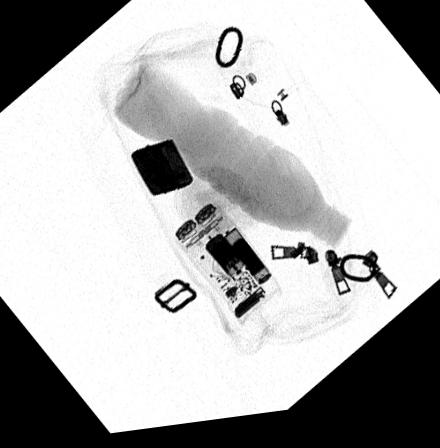Lighter: (129, 144, 194, 201)
